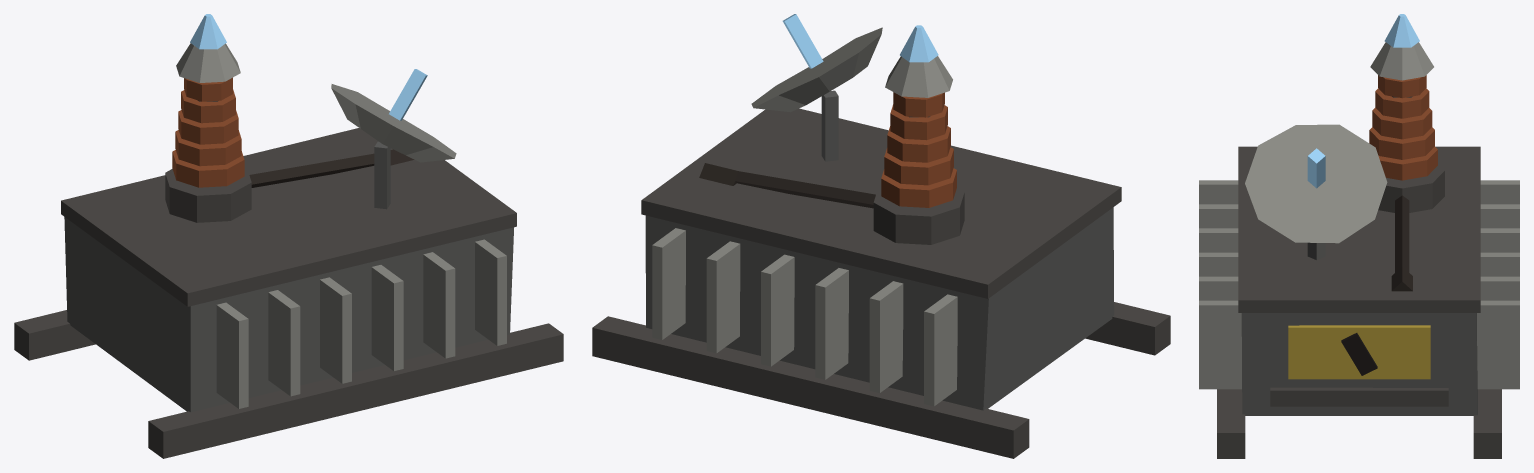
Rendered from util_emitter.glb.
The picture shows the model from 3 angles, left to right: view 1: azimuth 30°, elevation 25°; view 2: azimuth 150°, elevation 25°; view 3: azimuth 270°, elevation 25°; orthographic projection. The views are drawn at different scales.
Parts seen in each view (by area): view 1: util_emitter; view 2: util_emitter; view 3: util_emitter.
Boxes of the visible parts, x1,y1,x2,y2 form: util_emitter: (14,14,563,458); util_emitter: (592,14,1170,458); util_emitter: (1199,14,1519,458).
Bounding box in the file's own units: 1.24 × 1 × 0.9.
